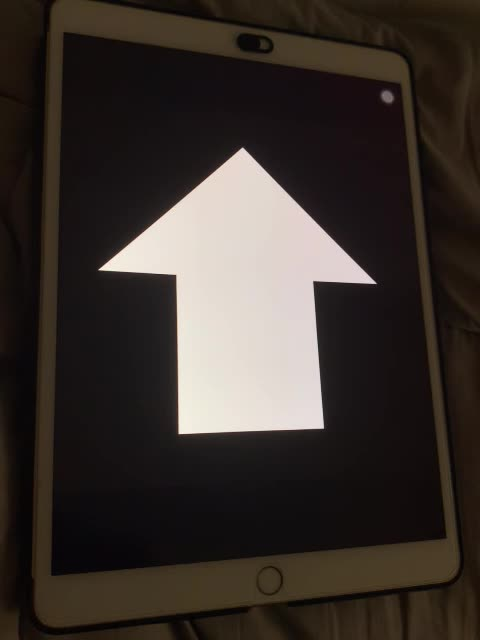up: (97, 142, 381, 440)
